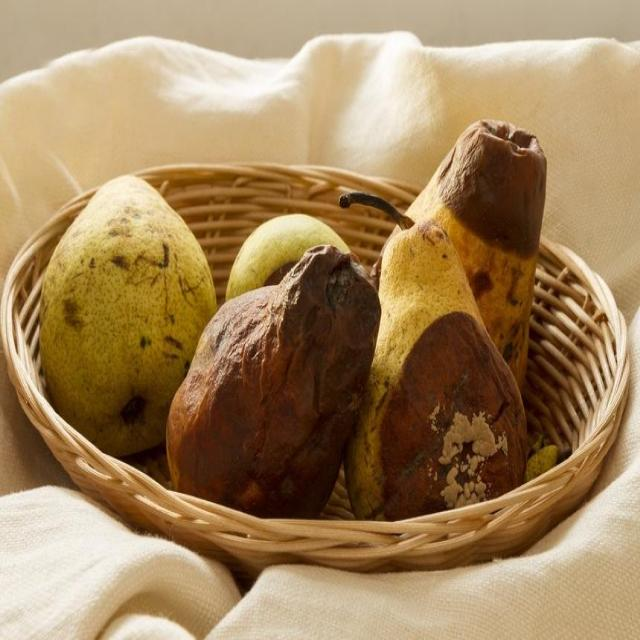Wet Waste: (39, 116, 548, 522)
